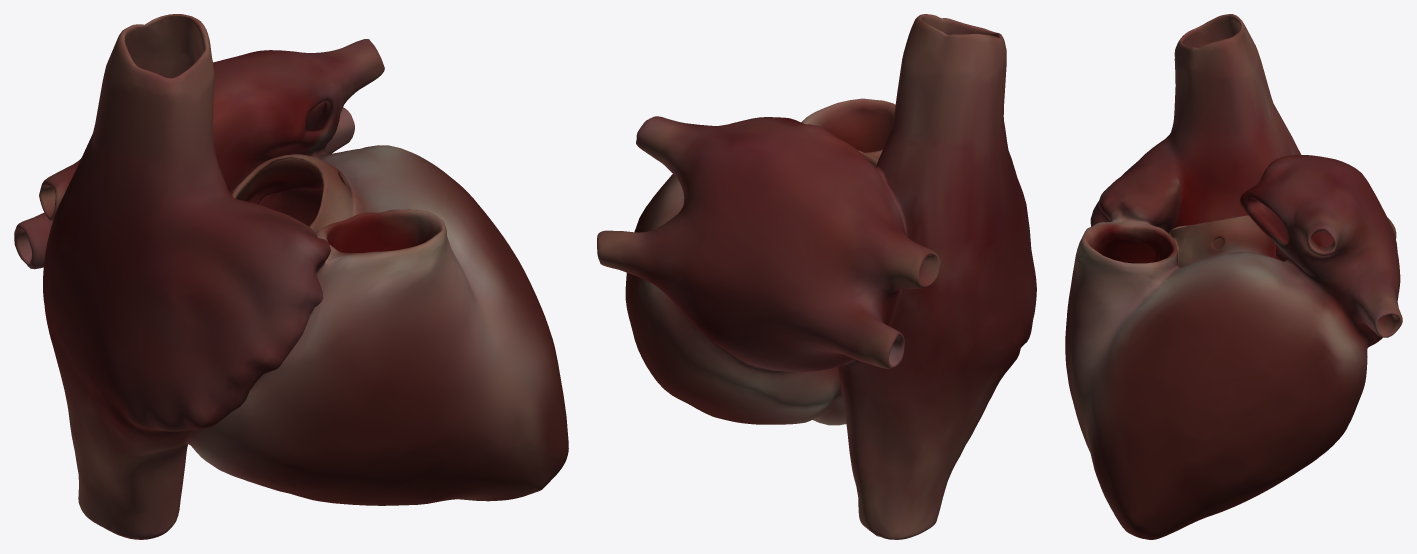
The model's file is basis.glb.
The picture shows the model from 3 angles, left to right: view 1: azimuth 30°, elevation 25°; view 2: azimuth 150°, elevation 25°; view 3: azimuth 270°, elevation 25°; orthographic projection. The views are drawn at different scales.
Parts seen in each view (by area): view 1: Hart_basis; view 2: Hart_basis; view 3: Hart_basis.
Boxes of the visible parts, x1,y1,x2,y2 form: Hart_basis: (14,14,568,539); Hart_basis: (597,14,1036,539); Hart_basis: (1065,14,1402,539).
Size of the model in its own units: 2.82 by 3.38 by 2.48.
